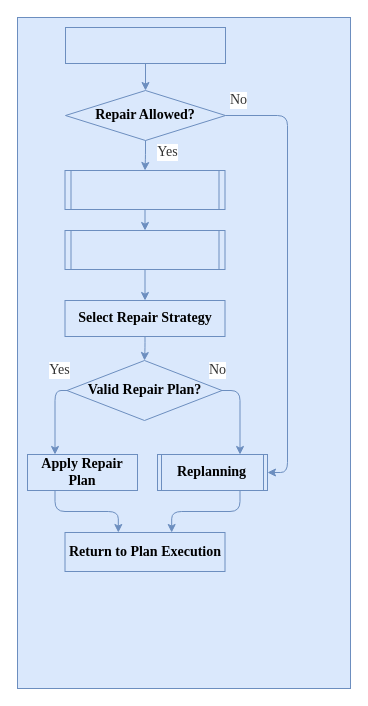
Image size: 368x706. Some labels were removed from this diagram. The shapes that lost their labels are listed below. From the top down, each one's box as (x1, y1, x2, y2) in pixels, then its label:
(64, 26, 226, 64): Analyze Error
(64, 170, 225, 210): Repair API Search
(64, 230, 225, 270): Repair Experience Retrieval
